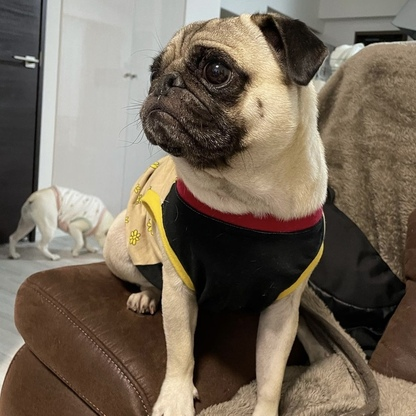Pug: (98, 6, 338, 416)
